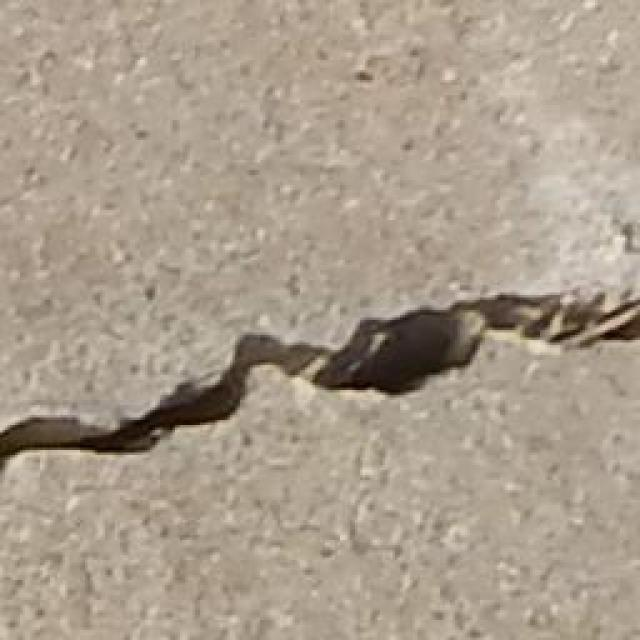concrete-crack: (0, 284, 640, 465)
